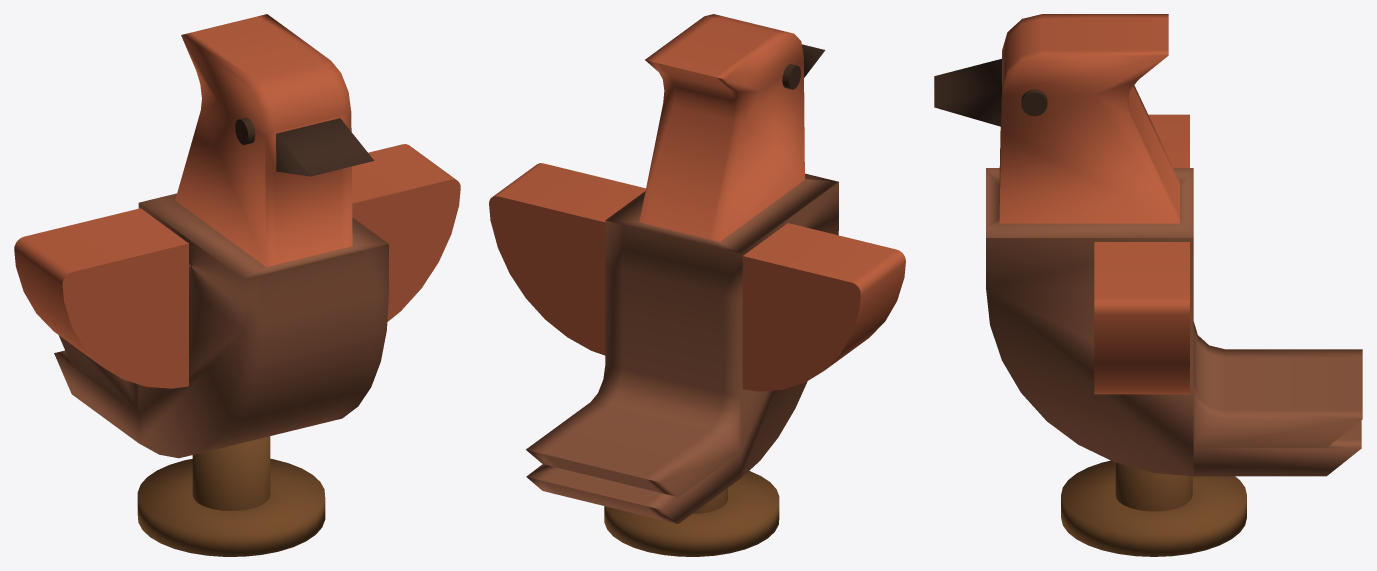
The model's file is bird.gltf.
3 views of the same model, side by side, from view 1: azimuth 30°, elevation 25°; view 2: azimuth 150°, elevation 25°; view 3: azimuth 270°, elevation 25° (orthographic). The views are drawn at different scales.
Parts seen in each view (by area): view 1: Cylinder.001, Cylinder.002, Cylinder; view 2: Cylinder.001, Cylinder.002, Cylinder; view 3: Cylinder.001, Cylinder.002, Cylinder, Cylinder.003.
Part boxes in pixels (left/top/right/bottom): Cylinder.001: left=54, top=14, right=388, bottom=458; Cylinder.002: left=14, top=144, right=460, bottom=388; Cylinder: left=137, top=436, right=325, bottom=556; Cylinder.001: left=526, top=14, right=838, bottom=523; Cylinder.002: left=489, top=163, right=905, bottom=391; Cylinder: left=604, top=471, right=779, bottom=556; Cylinder.001: left=934, top=14, right=1362, bottom=476; Cylinder.002: left=1094, top=114, right=1189, bottom=394; Cylinder: left=1061, top=460, right=1246, bottom=556; Cylinder.003: left=1021, top=89, right=1047, bottom=116.
Bounding box in the file's own units: 3.67 × 4.3 × 3.45.
